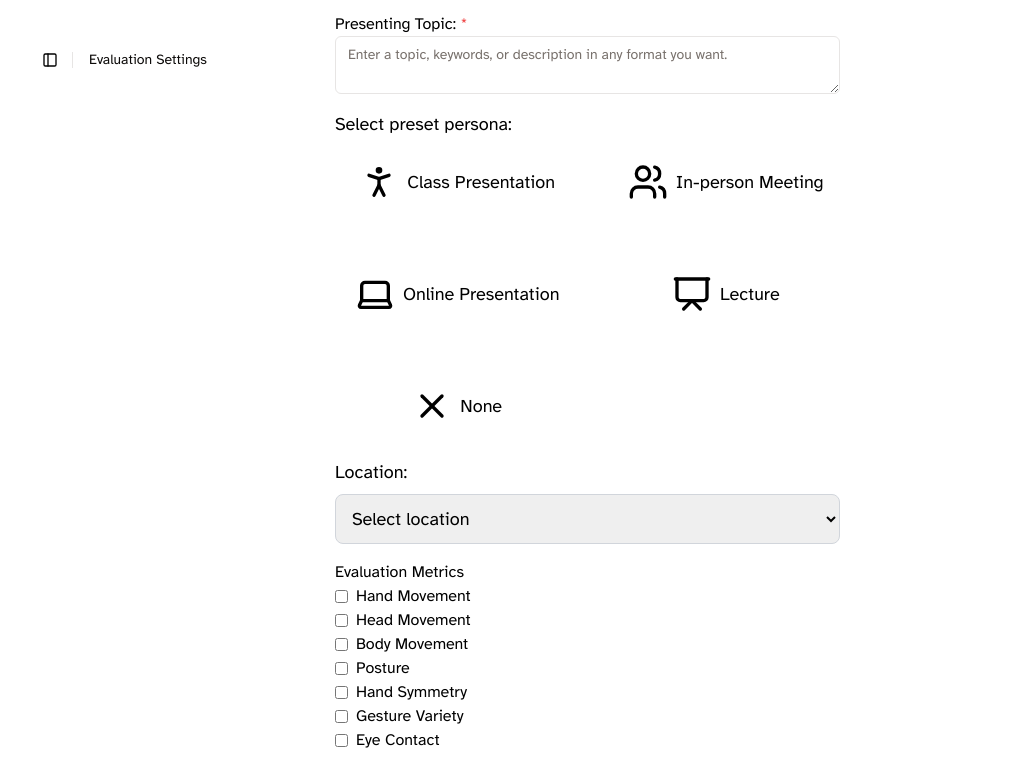
it: Page Component › updates form state when selecting lecture persona
Click the button "Lecture" at (722, 294), box [604,250,840,338]
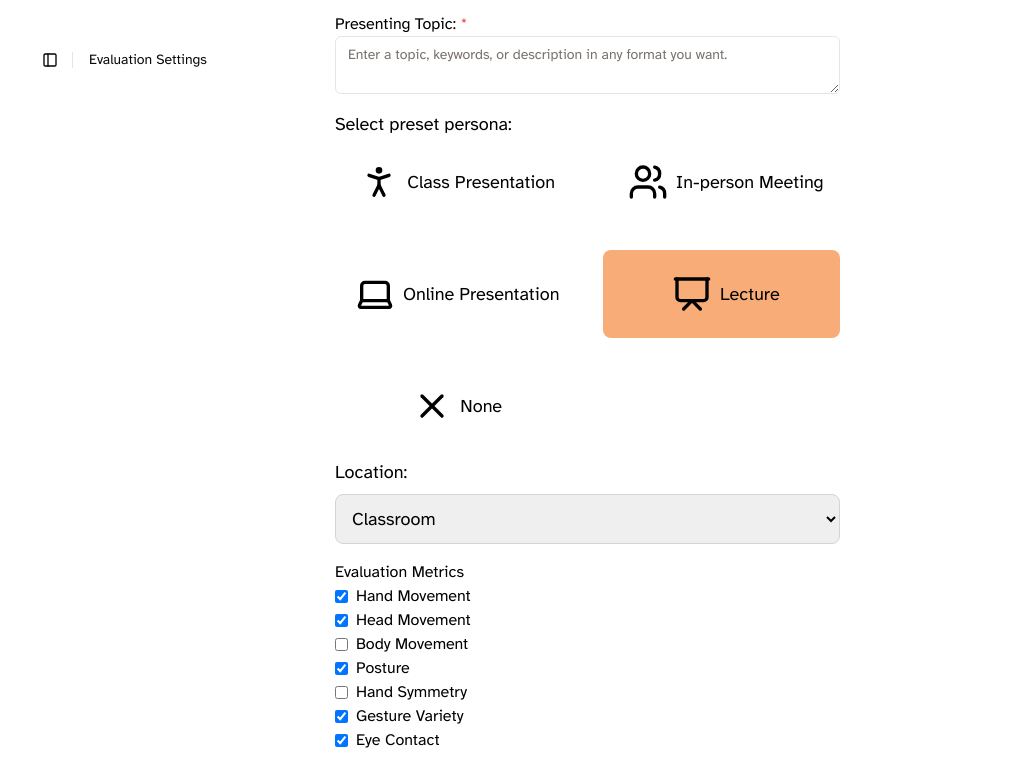
expect the dropdown labelled "Location:" shows "Classroom": met, box [335,494,840,544]
expect the checkbox labelled "Posture" is checked: met, box [335,662,348,674]
